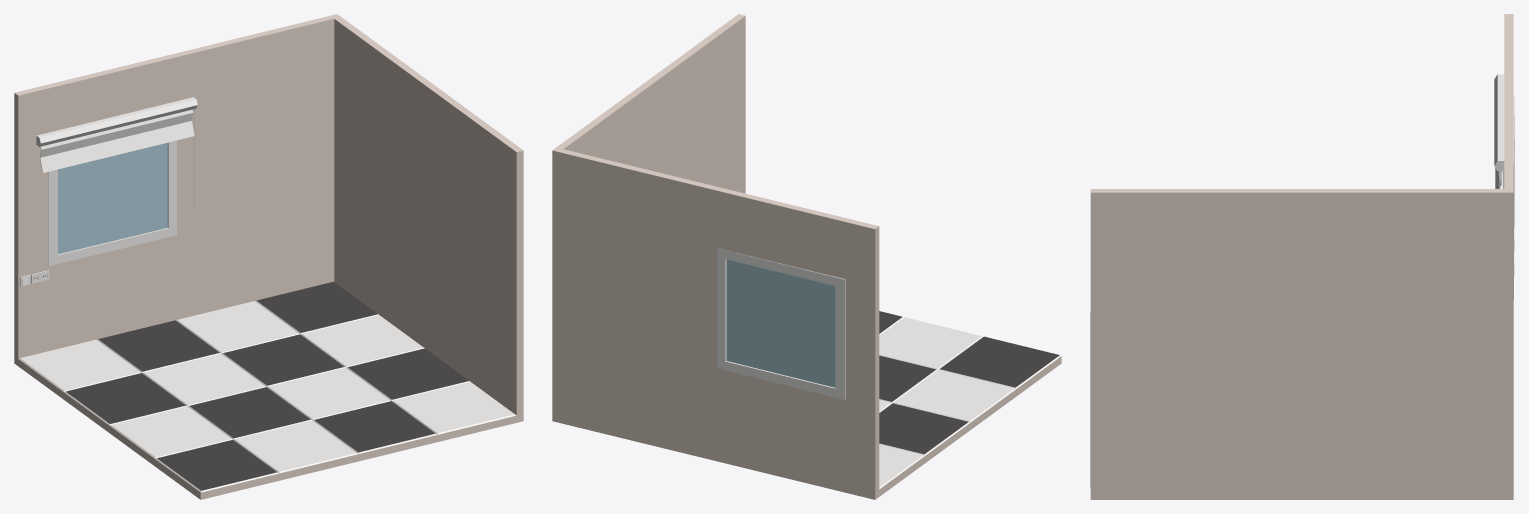
File: room_01.glb
3 views of the same model, side by side, from view 1: azimuth 30°, elevation 25°; view 2: azimuth 150°, elevation 25°; view 3: azimuth 270°, elevation 25° (orthographic). The views are drawn at different scales.
Parts seen in each view (by area): view 1: room_01; view 2: room_01; view 3: room_01.
Boxes of the visible parts, x1=… form: room_01: x1=14, y1=14, x2=523, y2=499; room_01: x1=552, y1=14, x2=1061, y2=499; room_01: x1=1090, y1=14, x2=1514, y2=499.
Bounding box in the file's own units: 5 × 4.01 × 5.02.
Materials: 1 (1 with a texture image).
